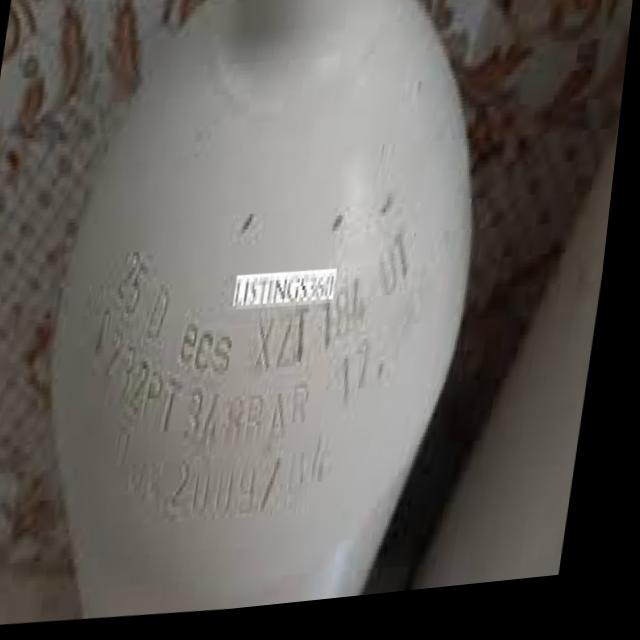ocr: (172, 433, 347, 542), (98, 307, 199, 451), (256, 283, 378, 379), (189, 383, 330, 460), (337, 337, 393, 429), (185, 314, 248, 394), (114, 245, 167, 324), (381, 229, 424, 310), (150, 275, 186, 350)
